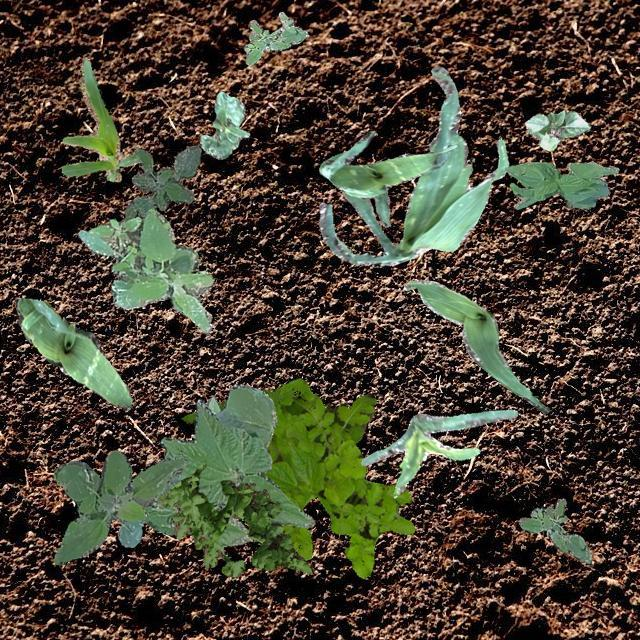crop: (318, 64, 508, 264), (142, 384, 314, 546), (402, 278, 548, 412), (359, 408, 516, 494), (318, 130, 456, 226), (15, 296, 132, 408), (60, 56, 140, 180), (503, 160, 617, 208), (198, 90, 248, 158), (524, 110, 590, 150), (204, 396, 218, 412)
weed: (180, 378, 414, 578), (158, 462, 312, 576), (76, 208, 212, 332), (52, 449, 184, 564), (124, 144, 200, 218), (518, 498, 590, 562), (242, 10, 306, 64)
